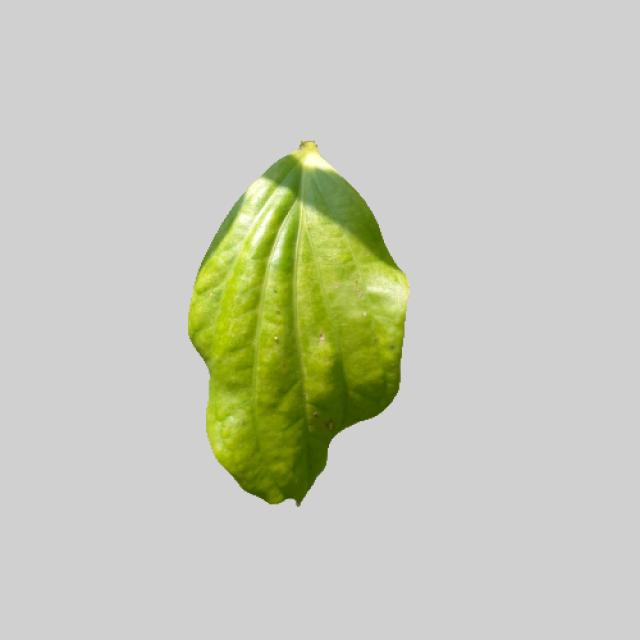yellow-mottle-virus: (174, 134, 415, 502)
